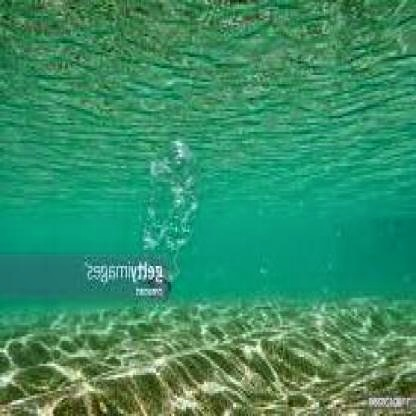pbottle: (128, 128, 212, 302)
